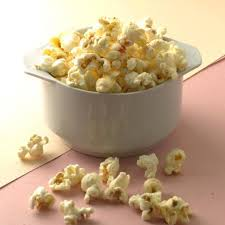popcorn: (25, 8, 201, 91)
